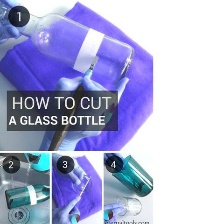bottle: (0, 0, 138, 93), (3, 182, 50, 207)
glass: (111, 151, 156, 200), (114, 194, 144, 217), (71, 173, 92, 193)
